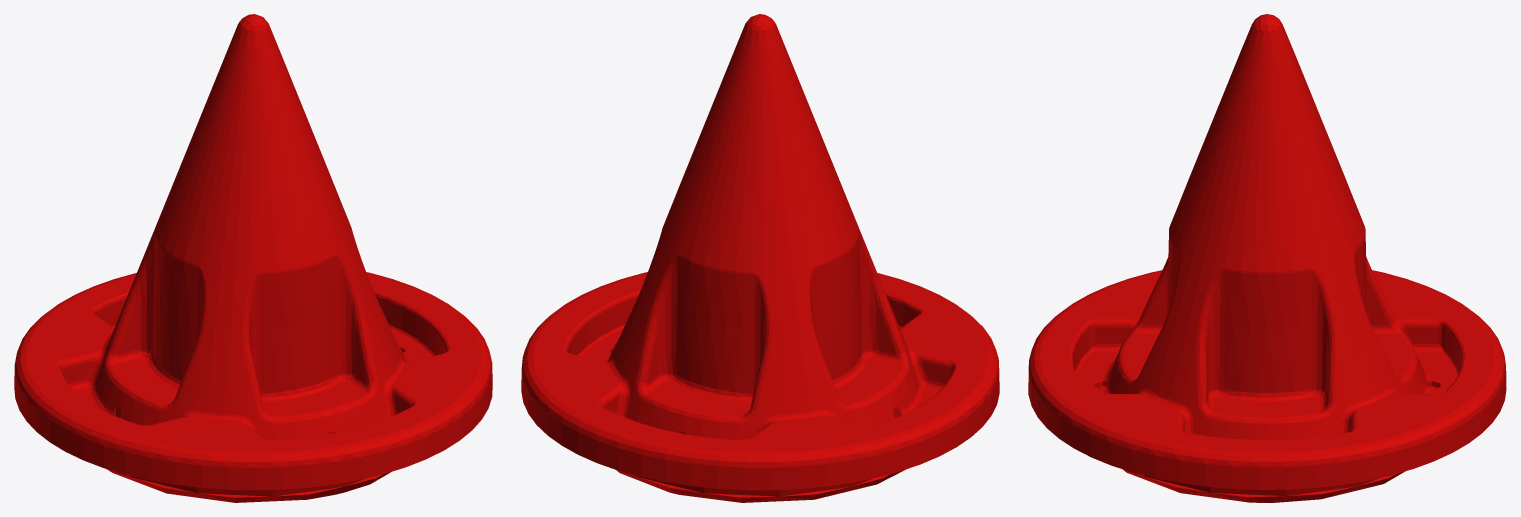
Rendered from RedMobileGoal.dae.
3 views of the same model, side by side, from view 1: azimuth 30°, elevation 25°; view 2: azimuth 150°, elevation 25°; view 3: azimuth 270°, elevation 25° (orthographic).
Visible parts, largest first — view 1: mobileGoal; view 2: mobileGoal; view 3: mobileGoal.
Boxes of the visible parts, x1,y1,x2,y2 form: mobileGoal: (14,14,492,502); mobileGoal: (521,14,999,502); mobileGoal: (1028,14,1506,502).
Size of the model in its own units: 10 by 10 by 9.6.
